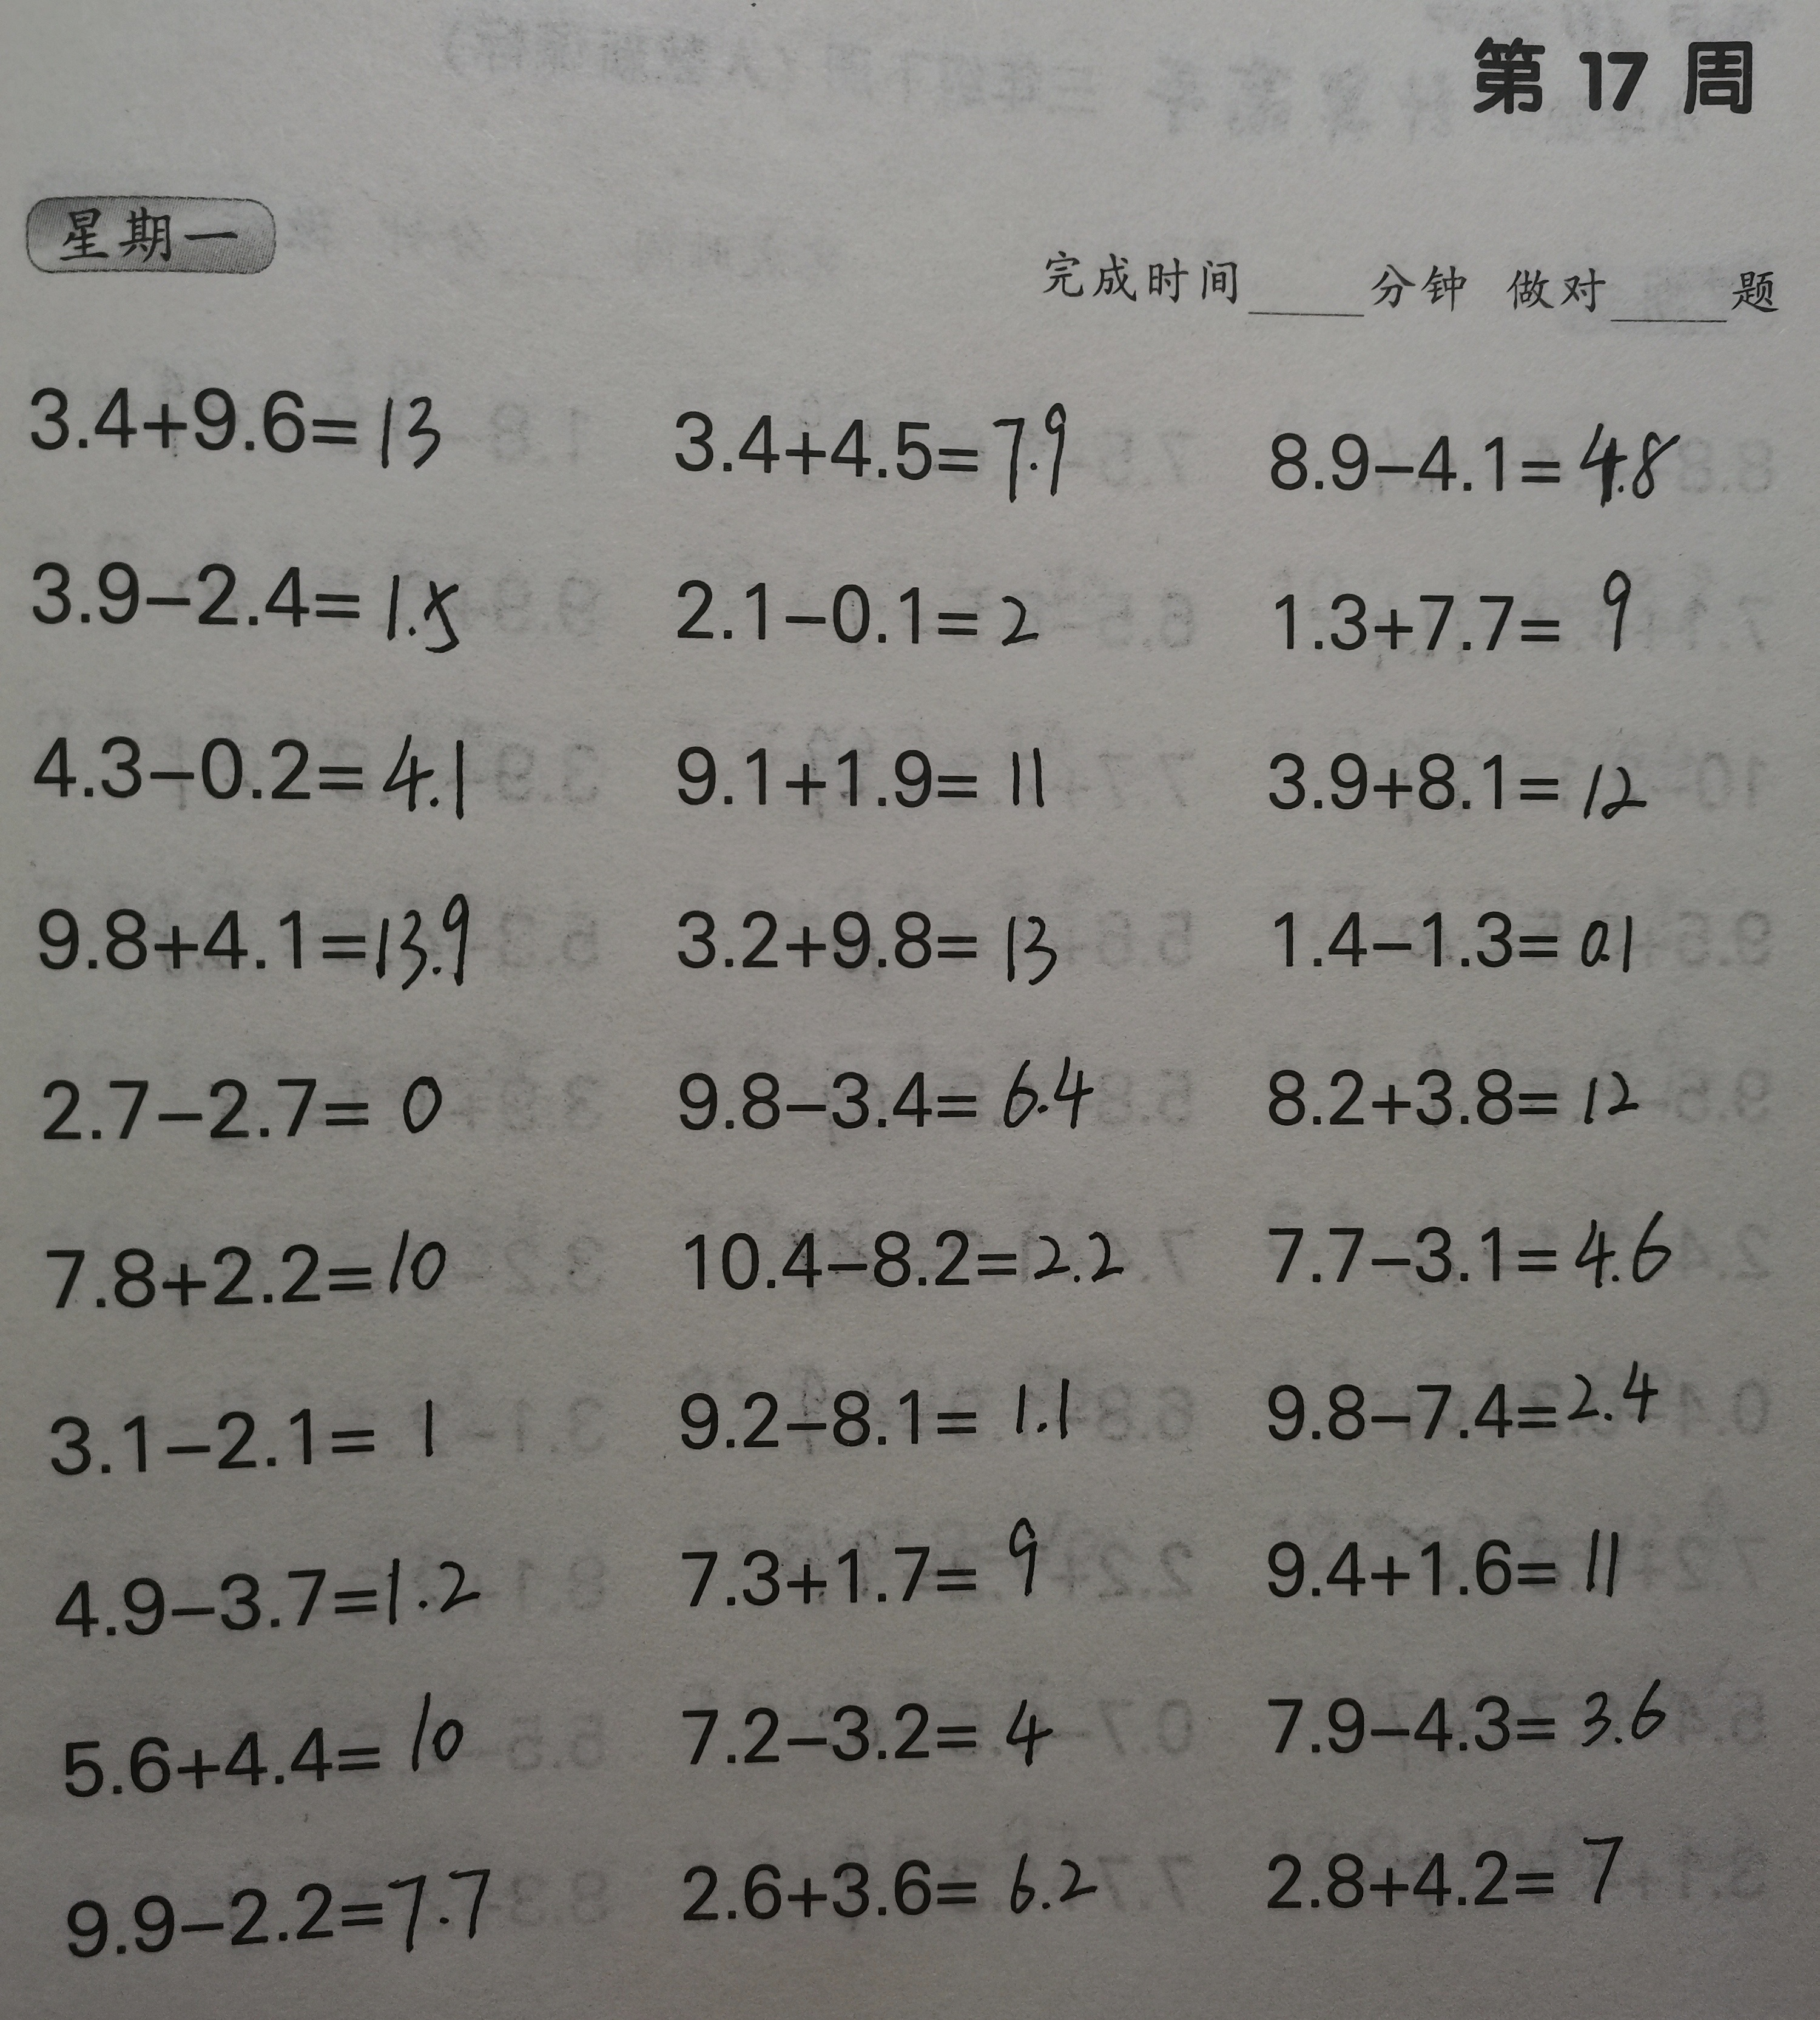equation: (645, 360, 1100, 518), (18, 871, 490, 1010), (21, 534, 488, 669), (51, 1846, 509, 1983), (37, 1674, 490, 1811), (1261, 392, 1688, 534), (16, 708, 481, 838), (655, 1194, 1138, 1310), (659, 1344, 1103, 1468), (659, 706, 1079, 834), (654, 1040, 1114, 1156), (673, 1823, 1114, 1943), (669, 1497, 1058, 1630), (648, 871, 1075, 992), (1258, 1660, 1715, 1772), (1258, 1187, 1701, 1302), (1247, 1493, 1658, 1616), (11, 362, 457, 473), (30, 1212, 467, 1323), (1258, 882, 1669, 999), (1261, 559, 1669, 676), (32, 1384, 469, 1493), (40, 1540, 495, 1644), (1261, 724, 1674, 838), (1251, 1038, 1674, 1149), (1247, 1345, 1690, 1451), (657, 550, 1075, 659), (1233, 1820, 1641, 1930), (32, 1049, 466, 1152), (673, 1670, 1068, 1772)
